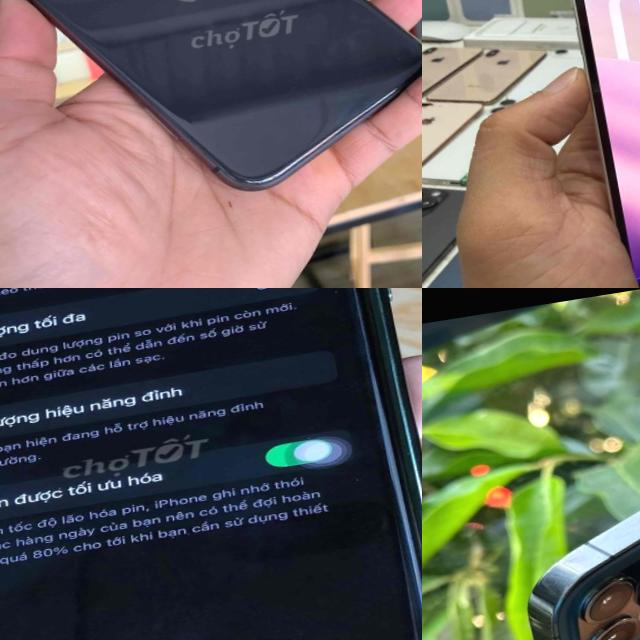gen_11: (0, 0, 422, 236)
gen_12_13: (492, 420, 640, 640), (558, 0, 640, 288)
gen_x_xs: (0, 288, 422, 640)
